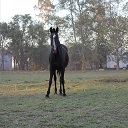caballo: (38, 21, 72, 98)
